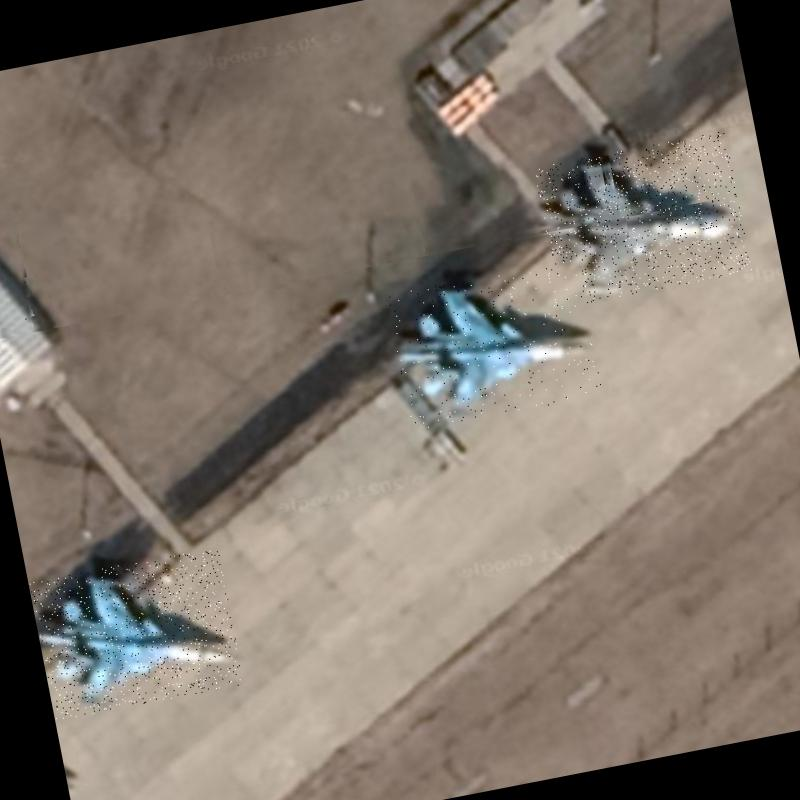A19: (533, 130, 752, 308), (29, 546, 244, 720), (386, 258, 602, 431)
